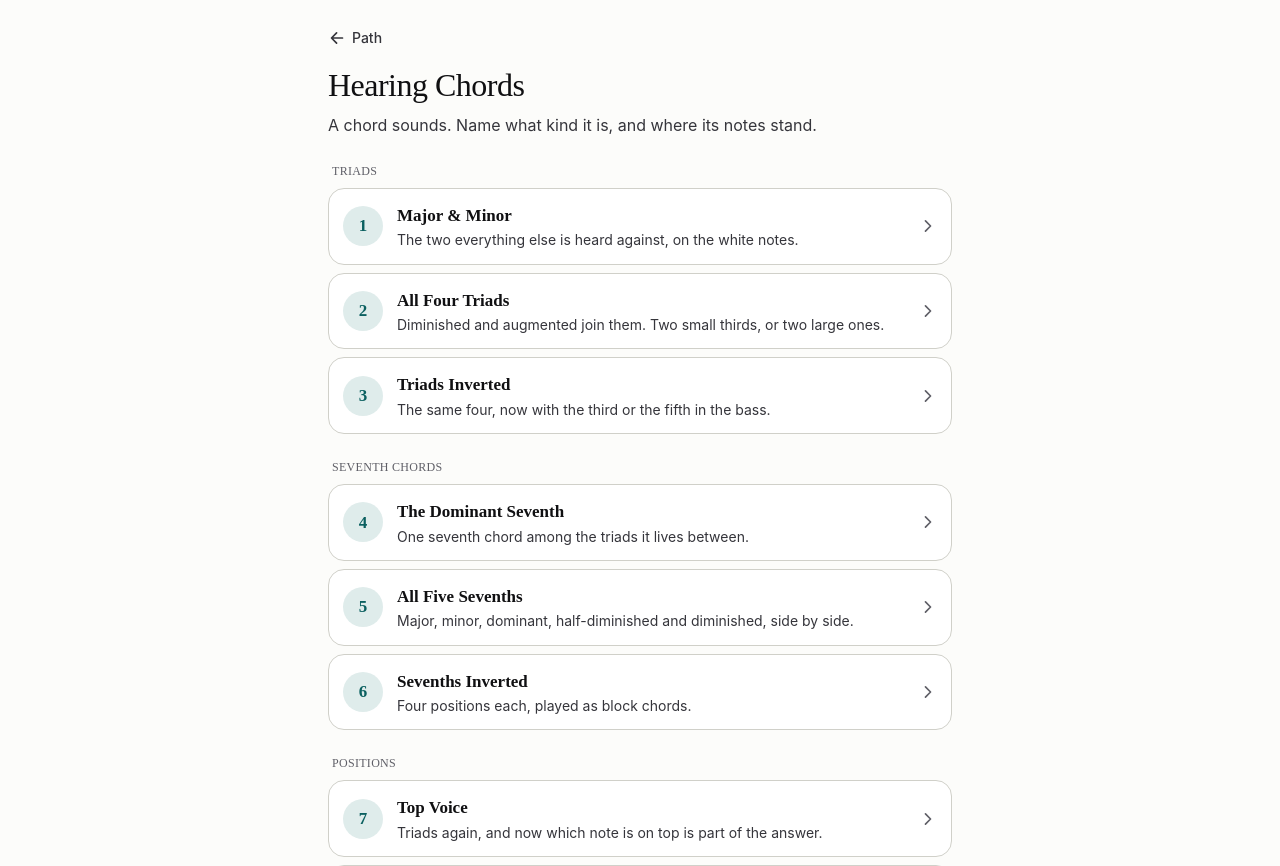
Test: hearing chords › never asks for the root, because there is nothing to hear it in
Check: the text "Major & Minor" is shown, box x1=397 y1=206 x2=512 y2=225
Click the button "Major & Minor".
click(363, 226)  # box x1=328 y1=188 x2=952 y2=265
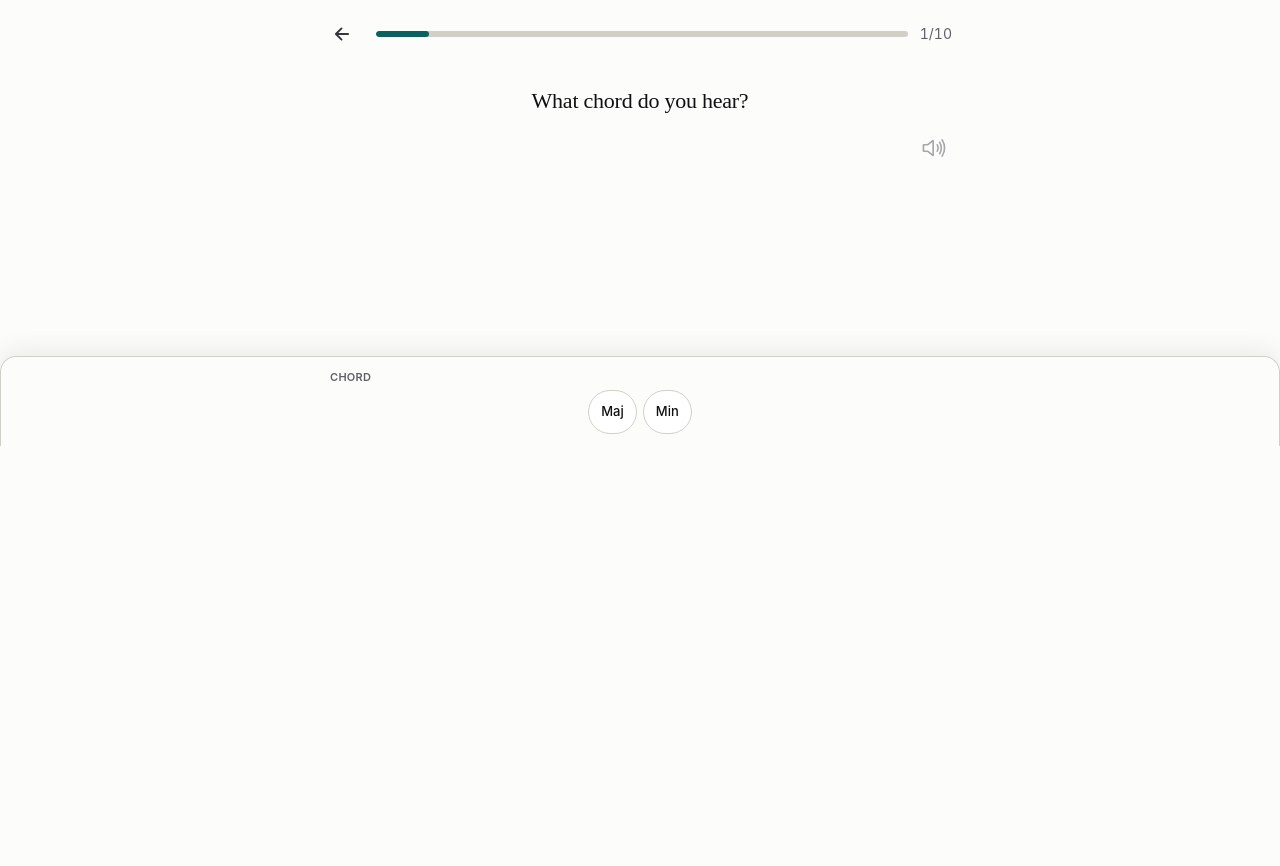
Check: the heading "What chord do you hear?" is shown, box x1=532 y1=88 x2=748 y2=114
